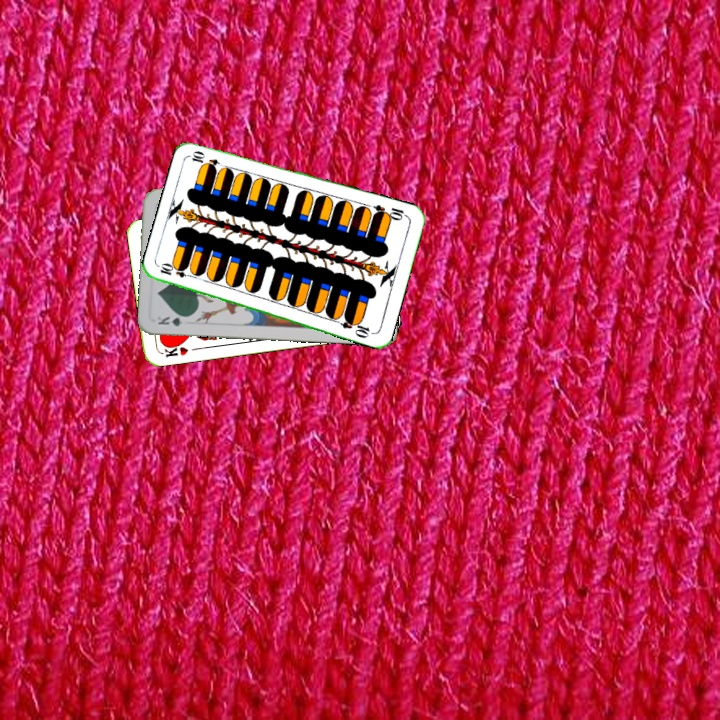E10: (370, 200, 410, 223), (156, 261, 197, 280)
GK: (153, 312, 193, 329)
HK: (157, 339, 190, 360)
